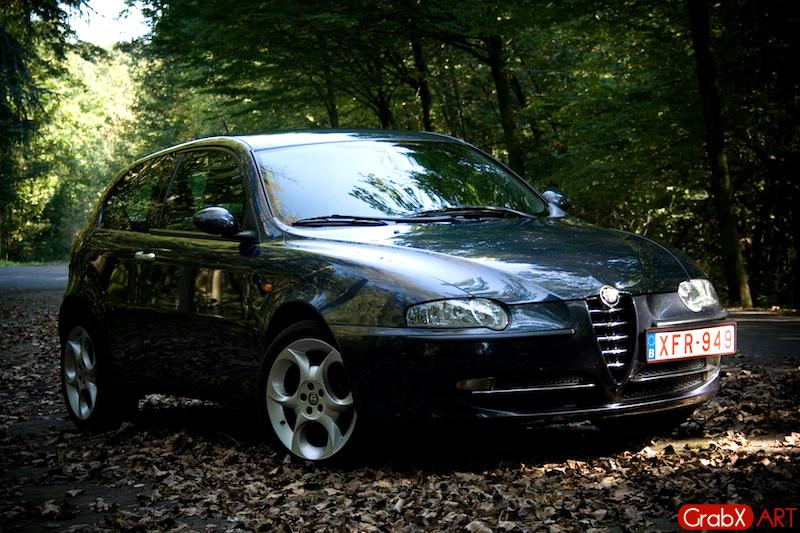windshield: (243, 139, 554, 233)
